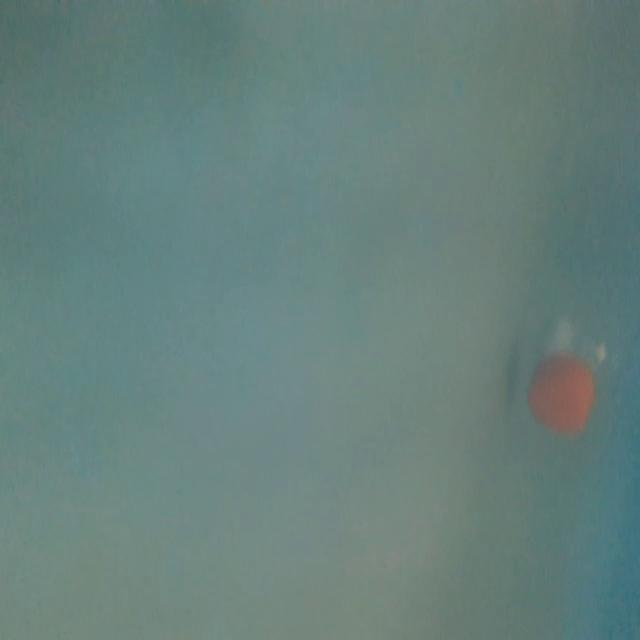plastic bottle: (522, 230, 640, 438)
